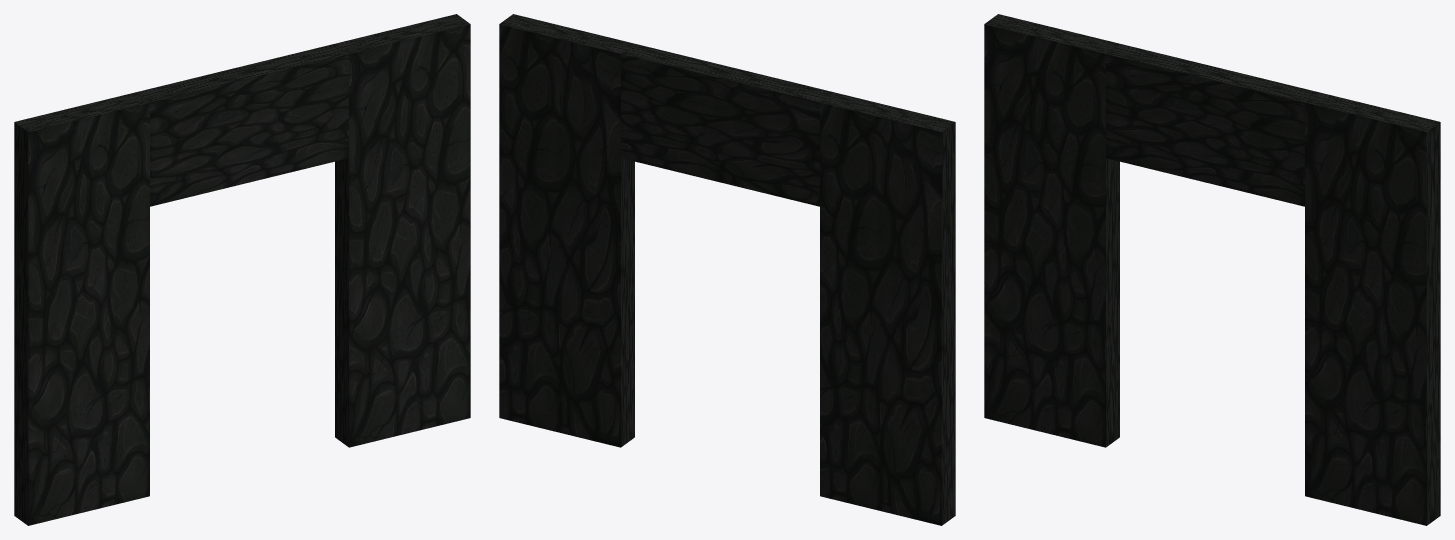
The model's file is stone_wall_arch_4m.glb.
The picture shows the model from 3 angles, left to right: view 1: azimuth 30°, elevation 25°; view 2: azimuth 150°, elevation 25°; view 3: azimuth 330°, elevation 25°; orthographic projection.
Visible parts, largest first — view 1: stone_wall_arch_4m, _MeshInstance3D_2557, _MeshInstance3D_2560; view 2: stone_wall_arch_4m, _MeshInstance3D_2557, _MeshInstance3D_2560; view 3: _MeshInstance3D_2557, stone_wall_arch_4m, _MeshInstance3D_2560.
Boxes of the visible parts, x1,y1,x2,y2 form: stone_wall_arch_4m: (14, 92, 149, 525); _MeshInstance3D_2557: (335, 14, 470, 447); _MeshInstance3D_2560: (136, 44, 348, 206); stone_wall_arch_4m: (820, 92, 955, 525); _MeshInstance3D_2557: (499, 14, 634, 447); _MeshInstance3D_2560: (621, 44, 833, 206); _MeshInstance3D_2557: (1305, 92, 1440, 525); stone_wall_arch_4m: (984, 14, 1119, 447); _MeshInstance3D_2560: (1106, 44, 1318, 206).
Size of the model in its own units: 4 by 3.4 by 0.22.
Materials: 1 (1 with a texture image).
